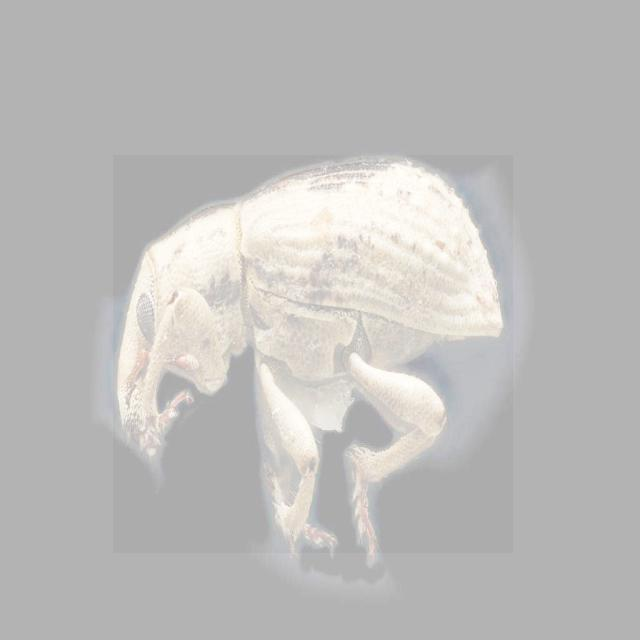rice-bug: (113, 156, 513, 554)
